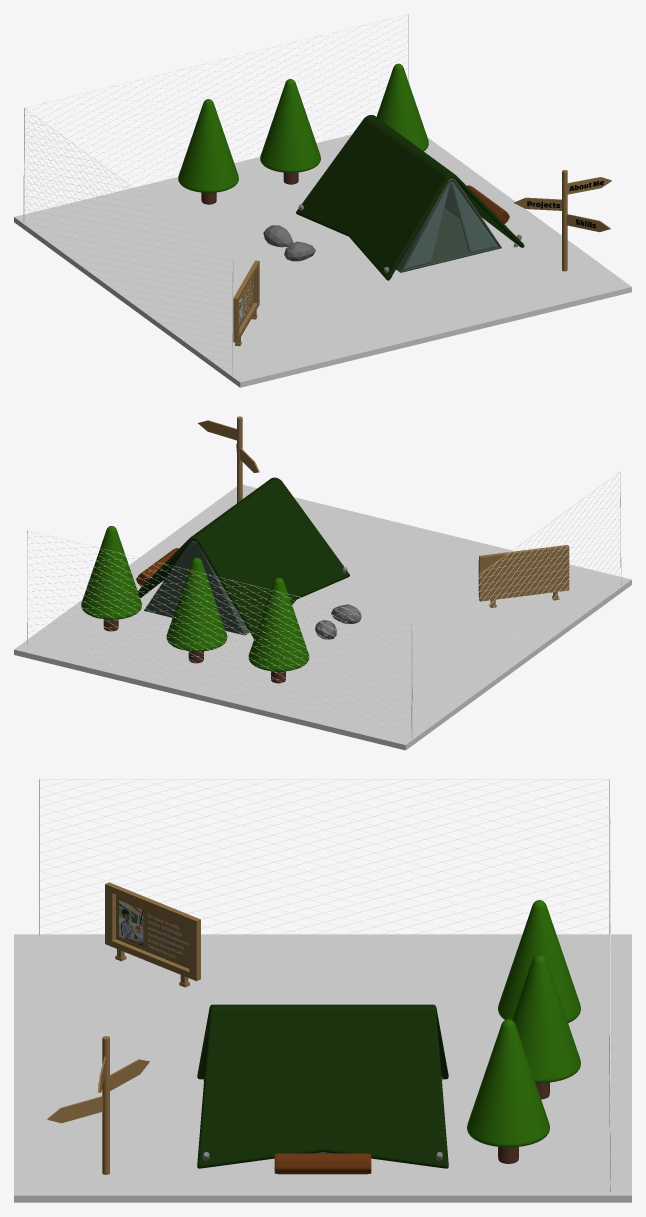
File: 3Dportfolio2.glb
3 views of the same model, one above another, from view 1: azimuth 30°, elevation 25°; view 2: azimuth 150°, elevation 25°; view 3: azimuth 270°, elevation 25° (orthographic). The views are drawn at different scales.
Visible parts, largest first — view 1: Plane, Cube.001, Plane.002, Plane.001, Cylinder.008, Cylinder.006, Cube, Plane.006, Cylinder.004, Cube.003, Cylinder; view 2: Plane, Cube.001, Plane.002, Plane.001, Cube.003, Cylinder.008, Cylinder.006, Cylinder.004, Cube, Cylinder, Icosphere; view 3: Plane, Cube.001, Plane.001, Cylinder.004, Cube.003, Cylinder.006, Cylinder.008, Cylinder.002, Cylinder, picture, Plane.005, Plane.002 (+1 smaller).
Part boxes in pixels (x1,y1,x2,y2): Plane: (14, 134, 631, 387); Cube.001: (296, 115, 524, 280); Plane.002: (23, 14, 408, 221); Plane.001: (23, 108, 233, 374); Cylinder.008: (178, 99, 238, 192); Cylinder.006: (260, 79, 320, 172); Cube: (396, 178, 501, 272); Plane.006: (404, 182, 497, 269); Cylinder.004: (376, 63, 428, 151); Cube.003: (233, 260, 259, 346); Cylinder: (562, 170, 567, 271); Plane: (14, 484, 631, 750); Cube.001: (138, 477, 349, 638); Plane.002: (27, 530, 411, 738); Plane.001: (412, 471, 621, 738); Cube.003: (478, 545, 569, 607); Cylinder.008: (248, 577, 309, 671); Cylinder.006: (166, 557, 227, 651); Cylinder.004: (81, 526, 141, 619); Cube: (144, 541, 249, 635); Cylinder: (237, 416, 242, 502); Icosphere: (331, 604, 361, 624); Plane: (14, 934, 631, 1202); Cube.001: (197, 1004, 448, 1168); Plane.001: (39, 779, 609, 935); Cylinder.004: (467, 1019, 549, 1147); Cube.003: (105, 882, 200, 987); Cylinder.006: (512, 954, 580, 1082); Cylinder.008: (498, 900, 580, 1022); Cylinder.002: (274, 1153, 371, 1174); Cylinder: (102, 1036, 109, 1174); picture: (119, 900, 143, 945); Plane.005: (47, 1096, 103, 1123); Plane.002: (609, 779, 610, 1191).
Size of the model in its own units: 10.28 by 2.92 by 10.
Materials: 12 (1 with a texture image).
